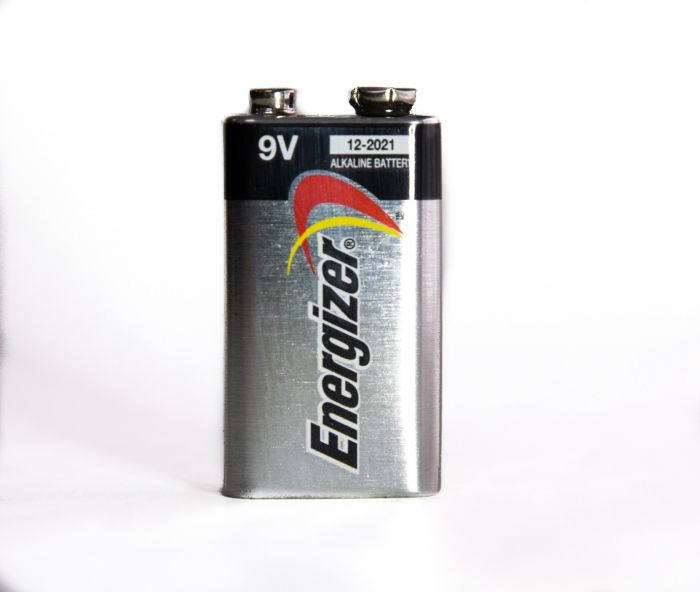9V: (211, 84, 455, 507)
